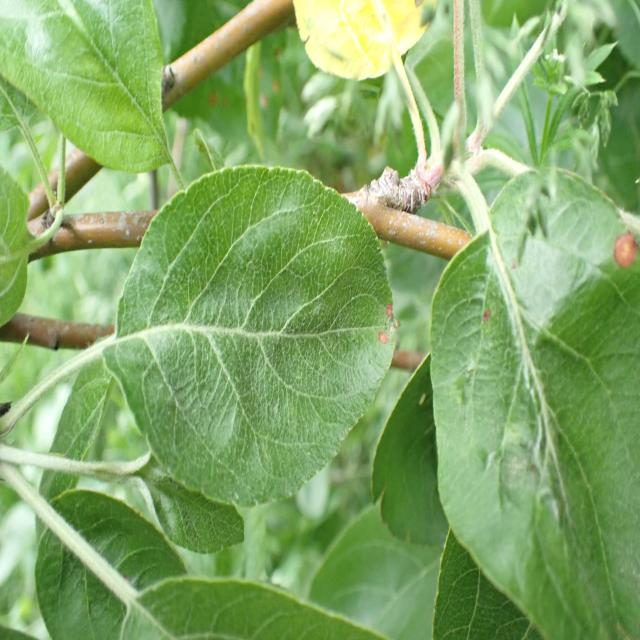frog-eye-leaf-spot: (105, 165, 402, 511), (428, 165, 639, 640)
